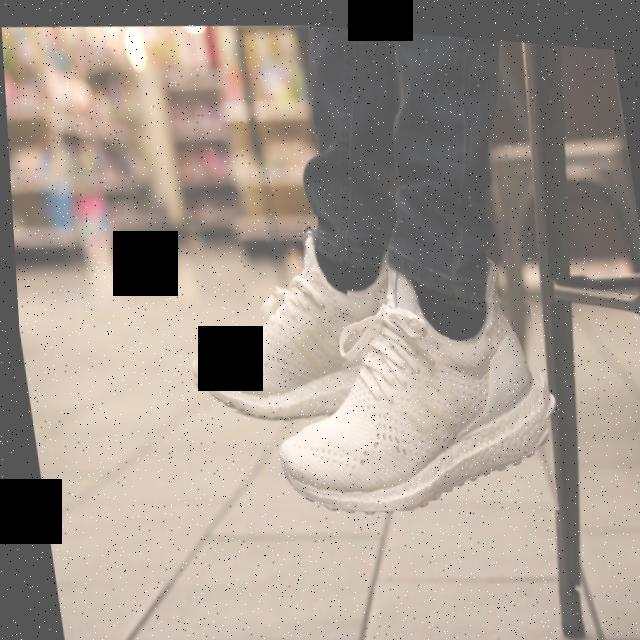shoe: (247, 264, 554, 524), (166, 211, 360, 419)
